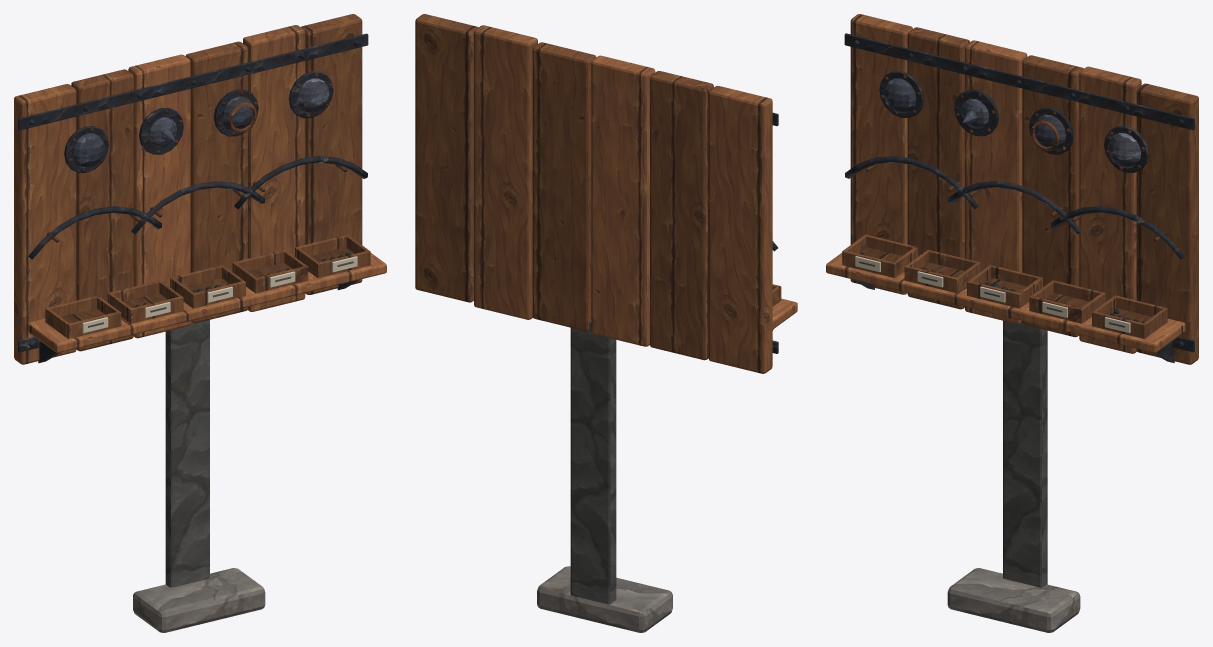
Rendered from hs_boss_shelf.glb.
3 views of the same model, side by side, from view 1: azimuth 30°, elevation 25°; view 2: azimuth 150°, elevation 25°; view 3: azimuth 330°, elevation 25° (orthographic). The views are drawn at different scales.
Visible parts, largest first — view 1: model; view 2: model; view 3: model.
Boxes of the visible parts, box(x1,y1,x2,y2) form: model: box(14, 14, 386, 632); model: box(415, 14, 797, 632); model: box(826, 14, 1198, 632).
Bounding box in the file's own units: 1.12 × 1.68 × 0.215.
Materials: 13 (11 with a texture image).
